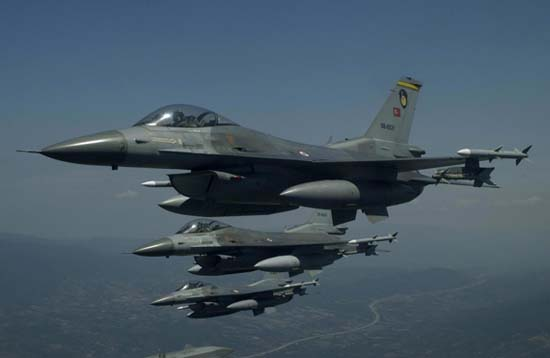airplane: (19, 68, 536, 190), (126, 201, 404, 276), (155, 173, 355, 222), (148, 266, 322, 320)
